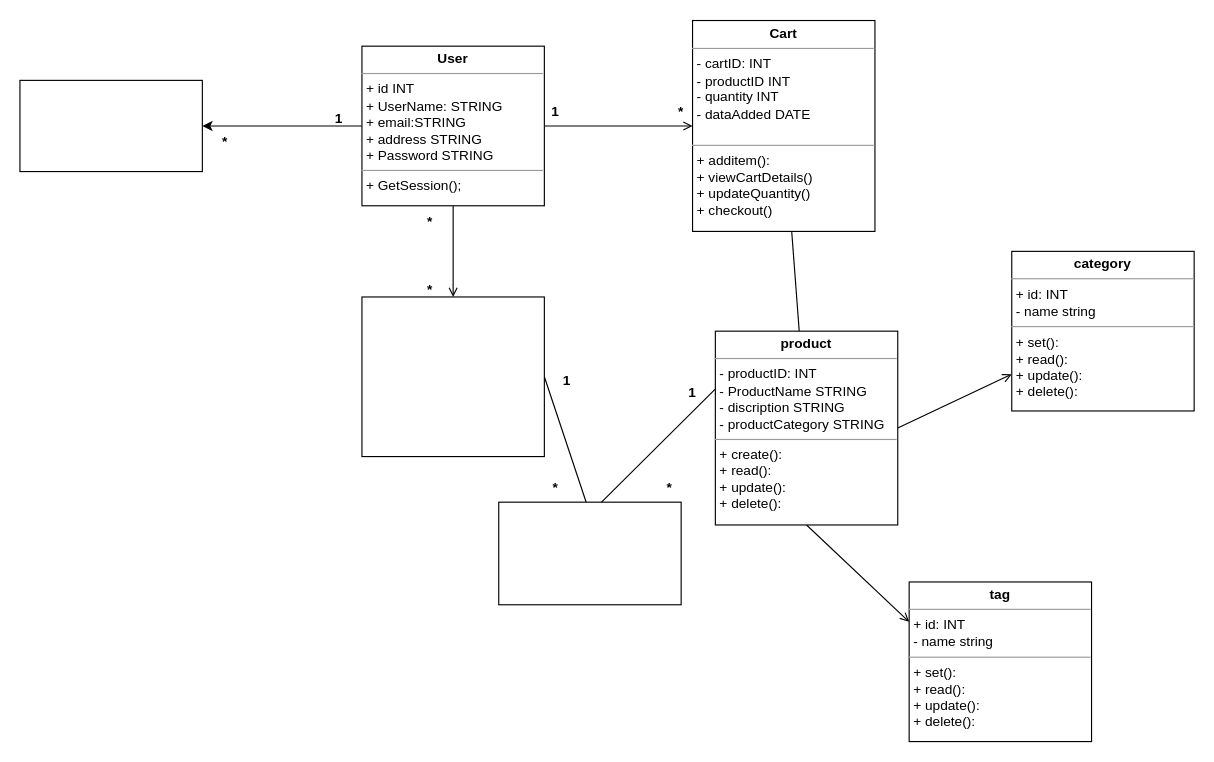
This 1214x762 diagram has some shape labels left out. Each missing label, with the centre of its shape:
Class + field: Type + method(): Type: point 589,553
Order - orderID: INT - status STRING add info + PlaceOrder(): point 452,376
Role - RoleID: INT - RoleType STRING: point 110,125
